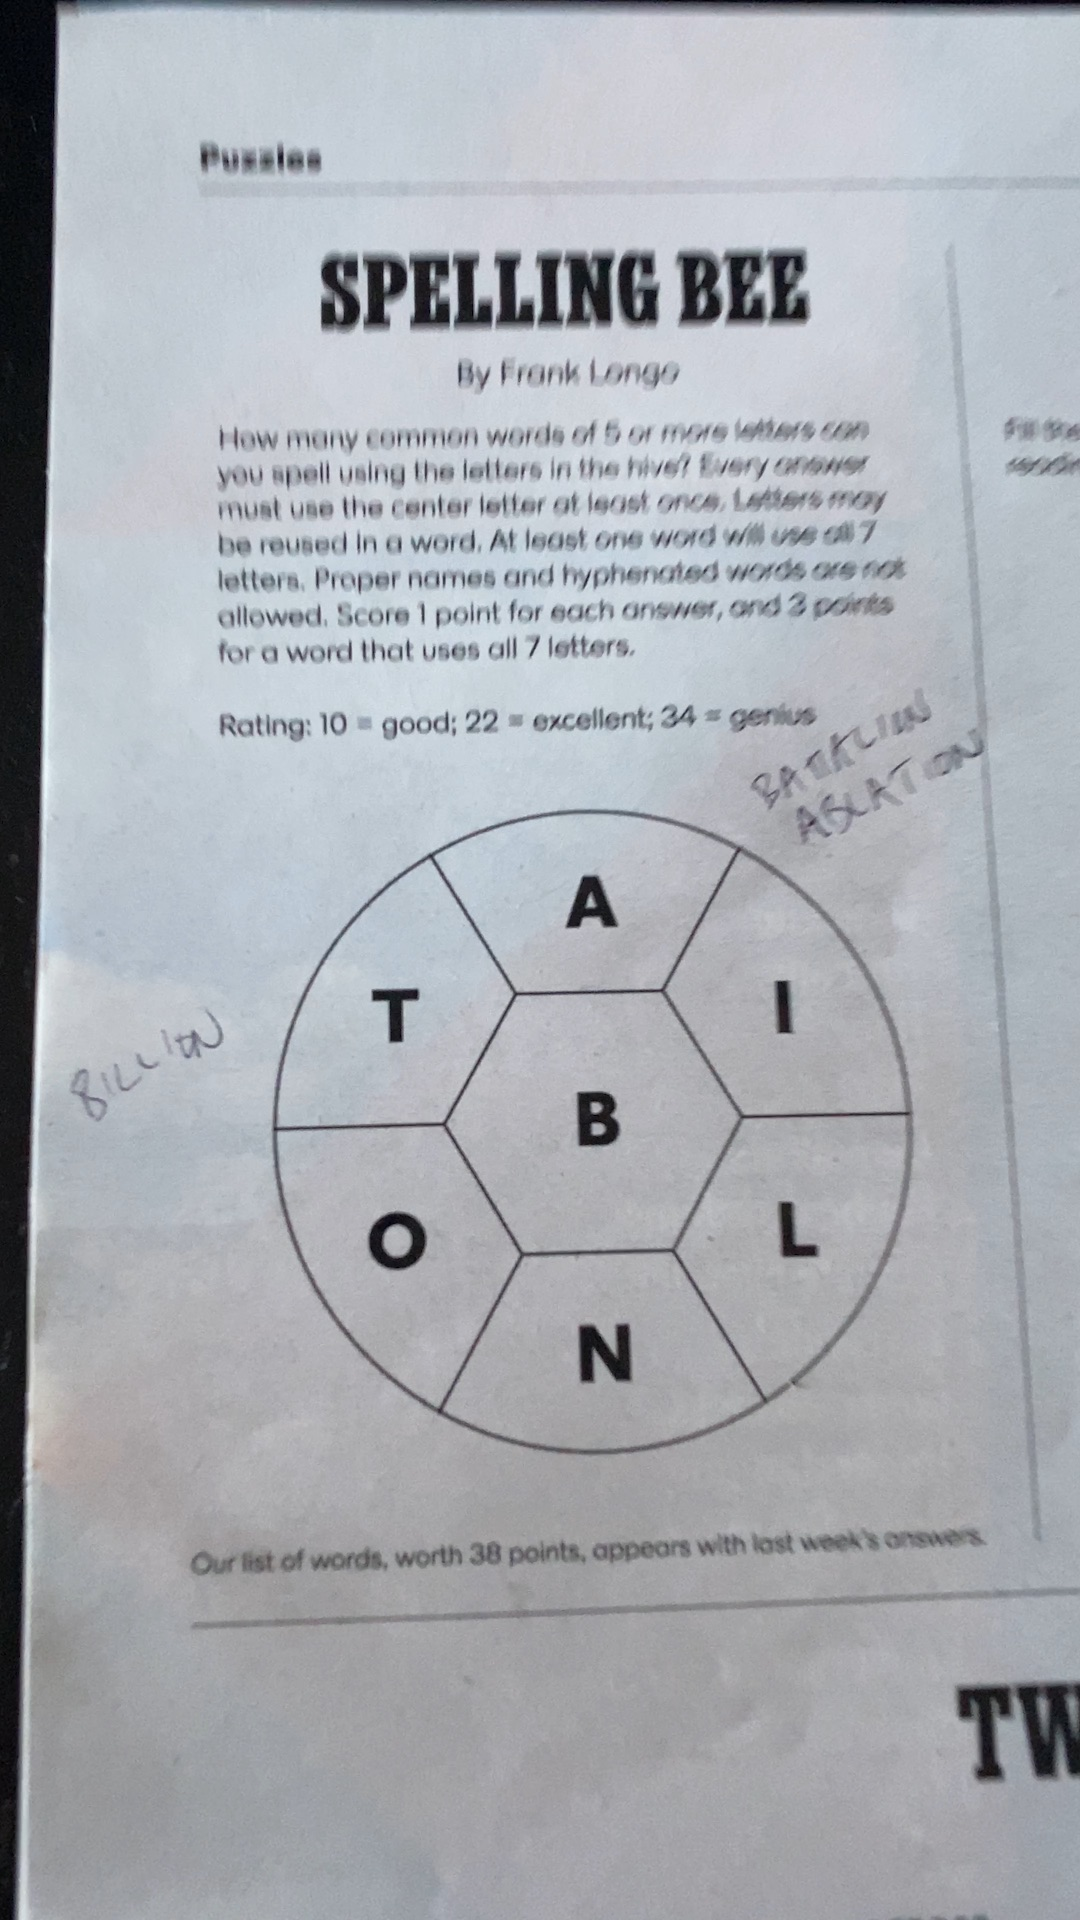PrintBoard: (241, 799, 942, 1480)
